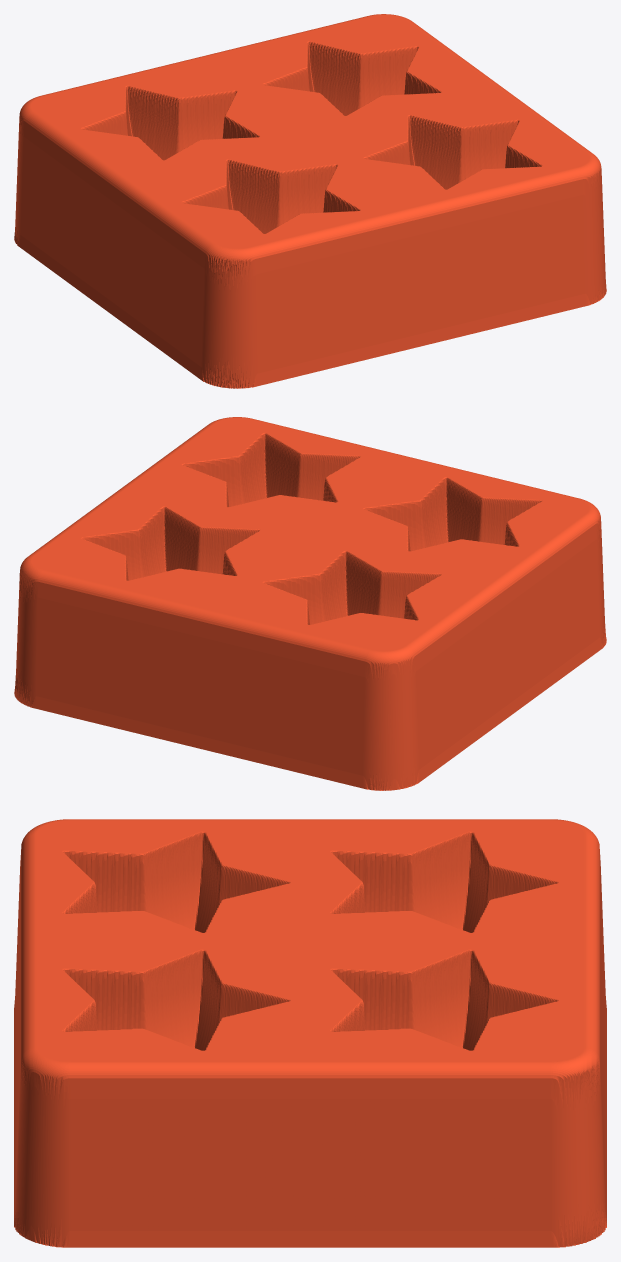
Rendered from mold.glb.
3 renders of one model, top to bottom at view 1: azimuth 30°, elevation 25°; view 2: azimuth 150°, elevation 25°; view 3: azimuth 270°, elevation 25°, orthographic. The views are drawn at different scales.
Parts seen in each view (by area): view 1: geometry_0; view 2: geometry_0; view 3: geometry_0.
Part boxes in pixels (x1,y1,x2,y2): geometry_0: (14, 14, 606, 388); geometry_0: (14, 417, 606, 790); geometry_0: (14, 819, 606, 1247).
Bounding box in the file's own units: 0.0992 × 0.0314 × 0.0956.
